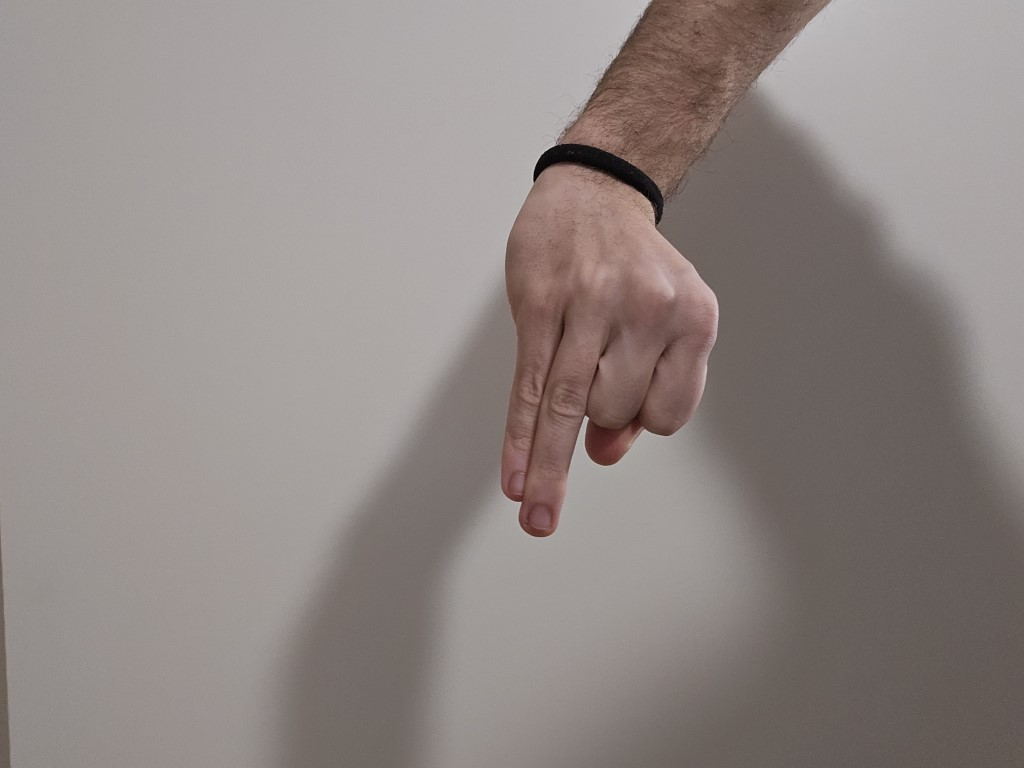n: (478, 177, 743, 567)
